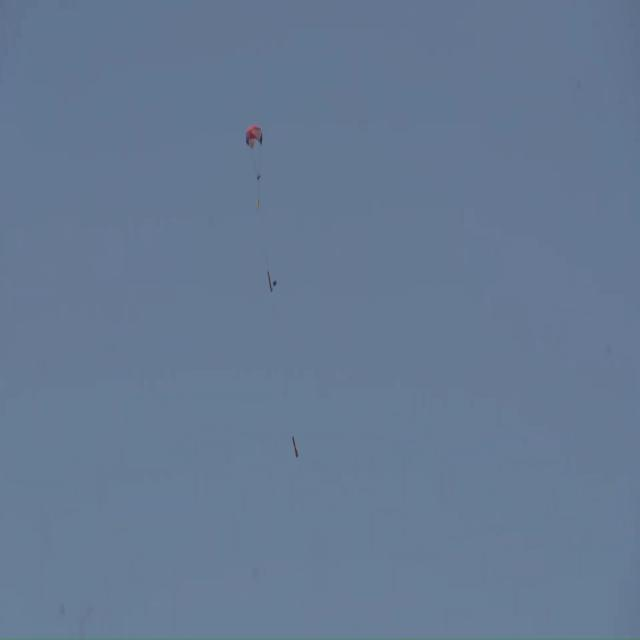Rocket: (292, 433, 300, 458)
